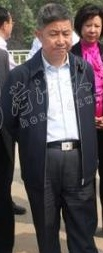boots: (11, 199, 26, 212), (0, 211, 7, 226)
